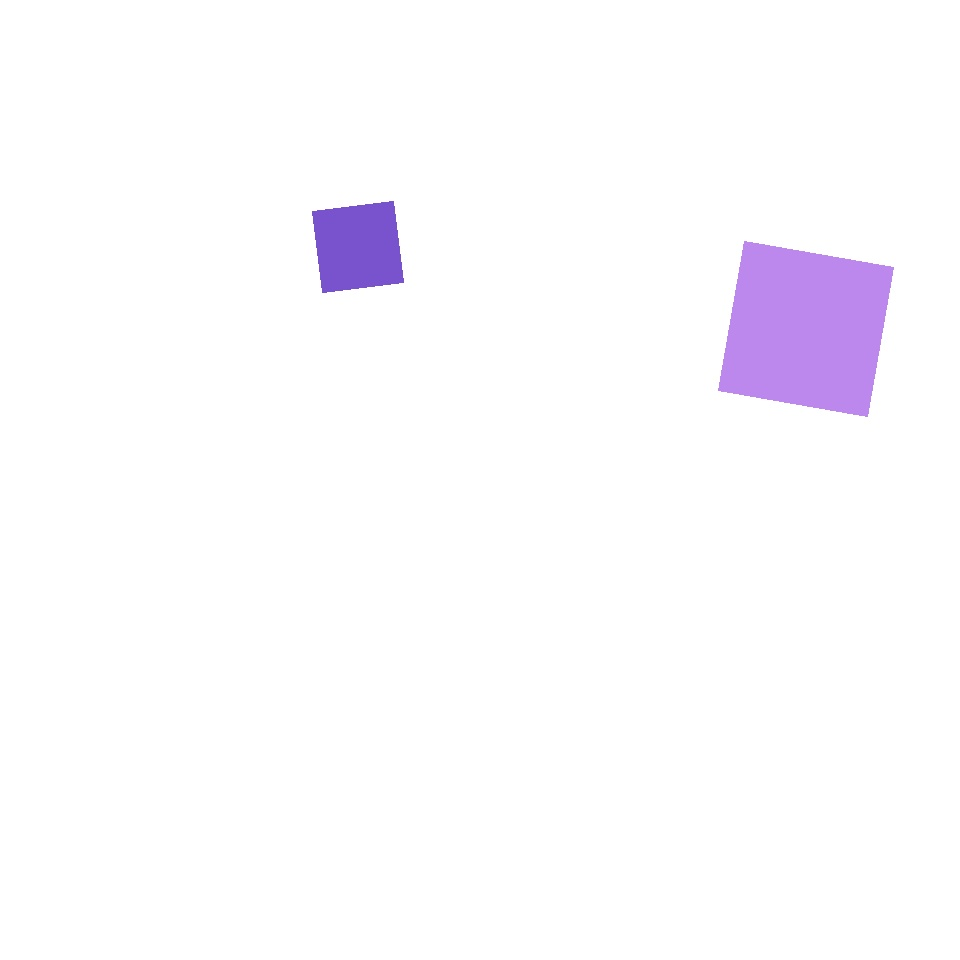circle: (470, 287, 604, 411), (506, 309, 600, 395)
square: (124, 480, 464, 822), (618, 554, 882, 820), (718, 242, 894, 416), (313, 201, 404, 292)
triangle: (116, 91, 255, 230)
